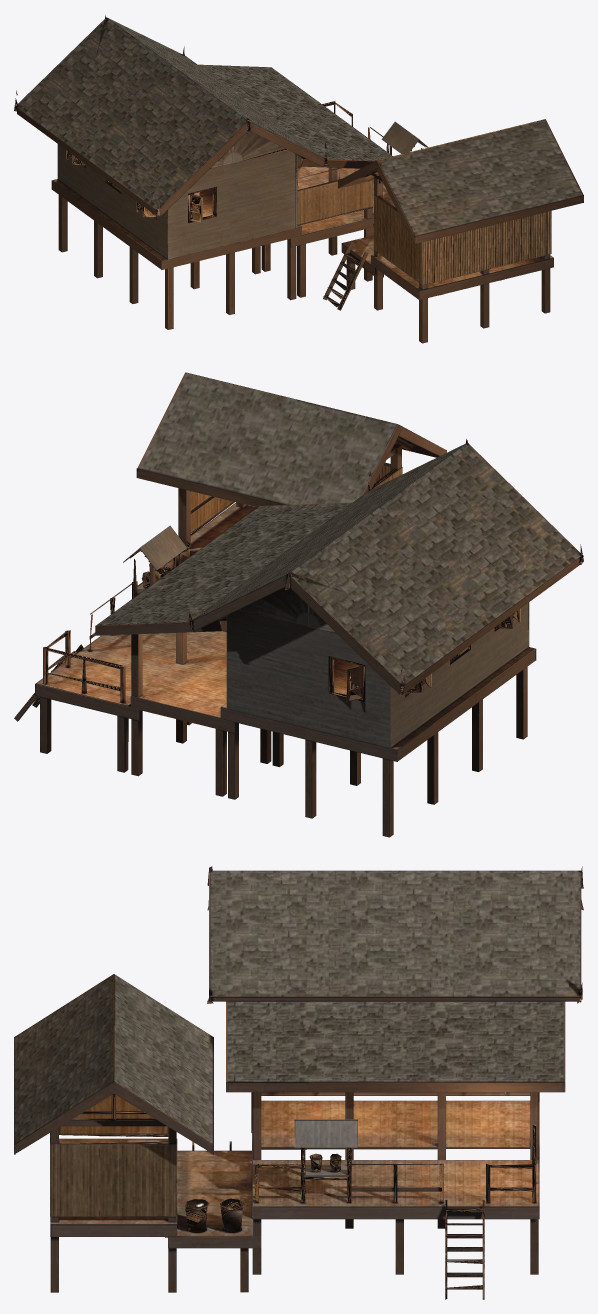
Rendered from nha-san-go.glb.
The picture shows the model from 3 angles, top to bottom: view 1: azimuth 30°, elevation 25°; view 2: azimuth 150°, elevation 25°; view 3: azimuth 270°, elevation 25°; orthographic projection. The views are drawn at different scales.
Parts seen in each view (by area): view 1: Object_4; view 2: Object_4; view 3: Object_4.
Part boxes in pixels (x1,y1,x2,y2): Object_4: [14, 15, 583, 343]; Object_4: [14, 372, 583, 837]; Object_4: [14, 866, 583, 1299].
Size of the model in its own units: 0.9336 by 0.5272 by 1.
1 material, 1 textured.
